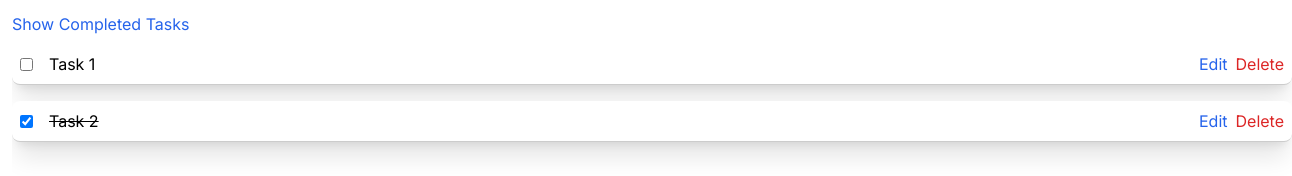
TaskList component › filters completed tasks when "Show Completed Tasks" button is clicked
Click the button "Show Completed Tasks". click: (101, 24)
box: [12,12,189,36]
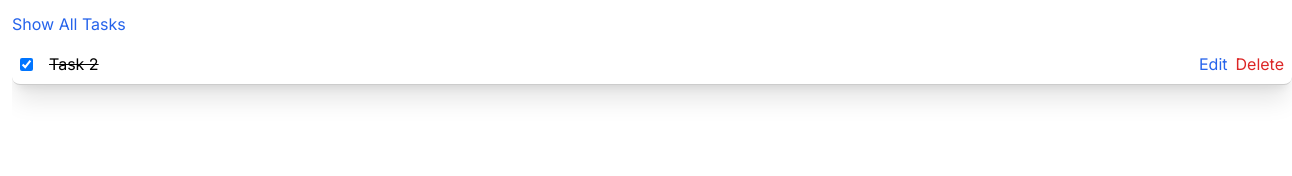
Expected: the text "Task 2" is shown, [49,52,99,76]
Result: the text "Task 1" is gone
